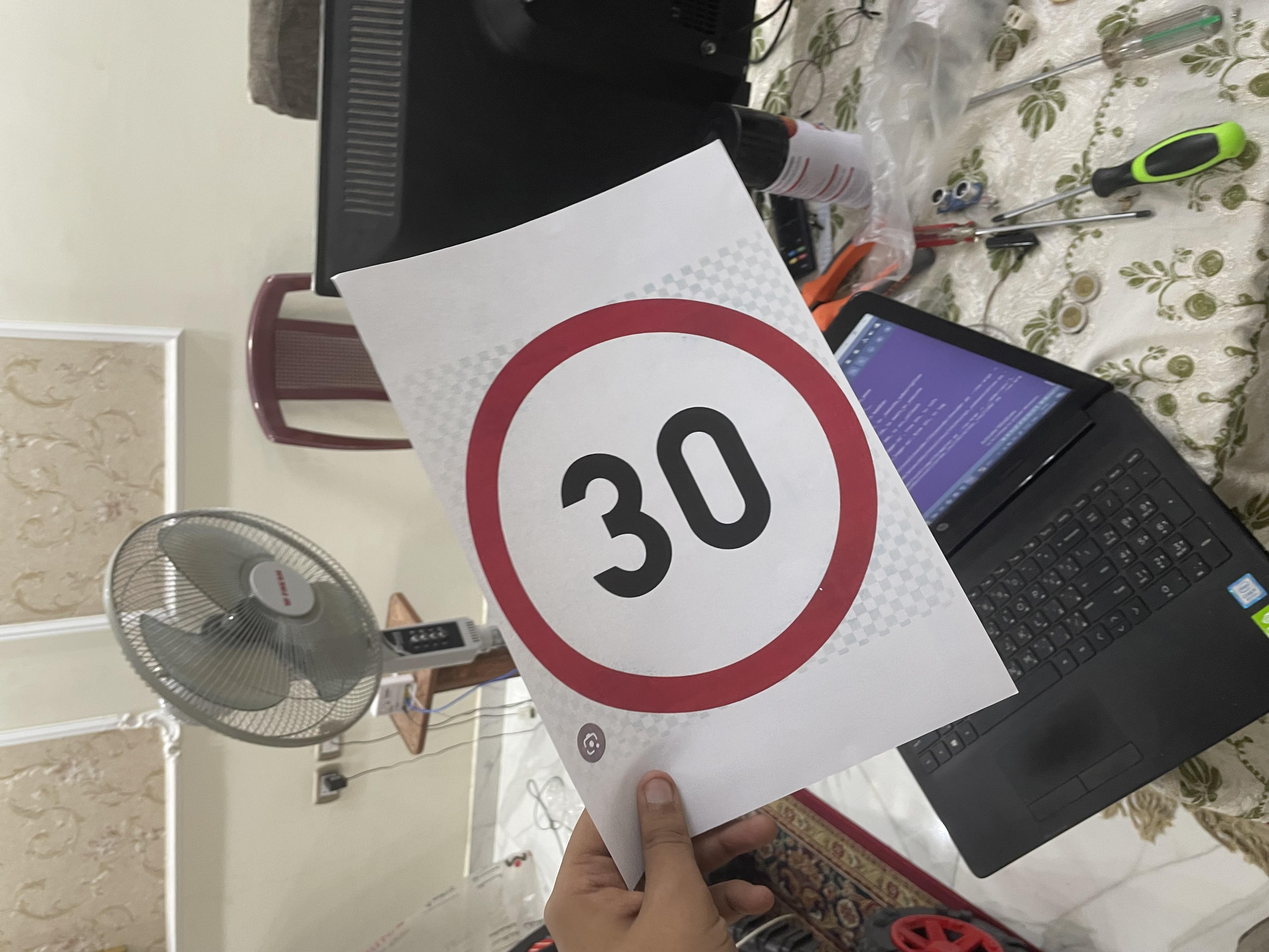30-speed: (320, 343, 878, 660)
